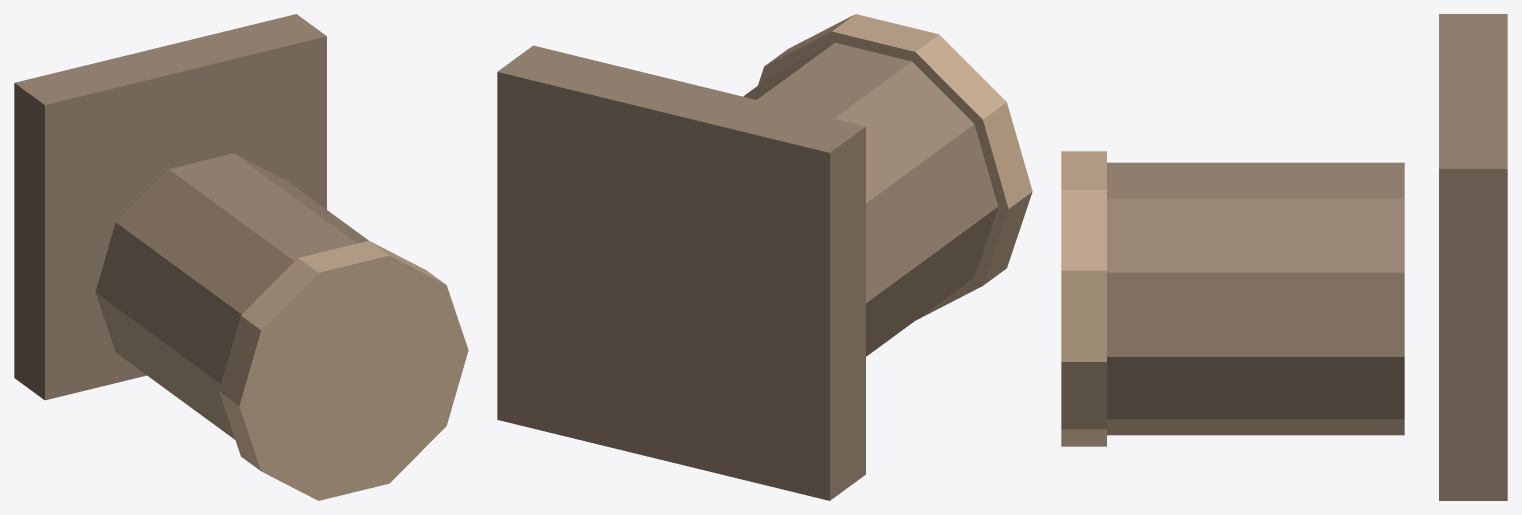
Rendered from bridle-rack.glb.
The picture shows the model from 3 angles, left to right: view 1: azimuth 30°, elevation 25°; view 2: azimuth 150°, elevation 25°; view 3: azimuth 270°, elevation 25°; orthographic projection. The views are drawn at different scales.
Parts seen in each view (by area): view 1: bridle-rack; view 2: bridle-rack; view 3: bridle-rack.
Boxes of the visible parts, <box> form: bridle-rack: <box>14,14,468,500</box>; bridle-rack: <box>497,14,1032,500</box>; bridle-rack: <box>1061,14,1507,500</box>.
Size of the model in its own units: 0.16 by 0.1618 by 0.195.
